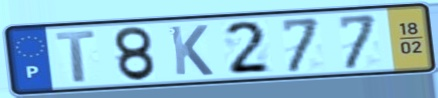2: (221, 19, 272, 76)
7: (338, 12, 379, 71), (281, 15, 322, 74)
8: (112, 25, 157, 83)
K: (167, 23, 216, 78)
T: (53, 29, 99, 85)
